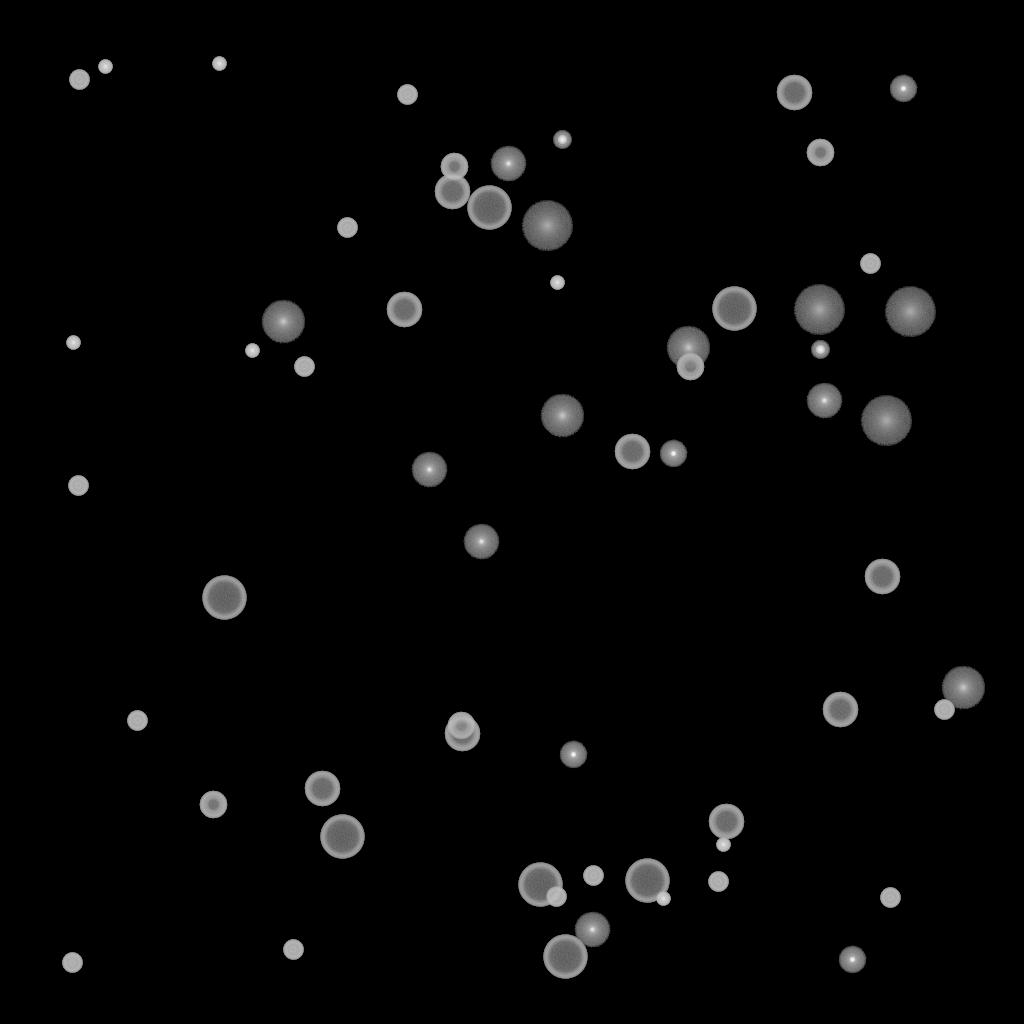depth:-10: (559, 741, 587, 769), (659, 440, 687, 468), (838, 946, 866, 974), (889, 75, 917, 103)
depth:-20: (811, 341, 829, 359), (553, 131, 571, 149)
depth:-30: (656, 892, 670, 906), (716, 838, 730, 852), (550, 276, 564, 290), (212, 57, 226, 71), (66, 336, 80, 350), (98, 60, 112, 74), (245, 344, 259, 358)
depth:-40: (708, 872, 728, 892), (62, 953, 82, 973), (294, 357, 314, 377), (397, 85, 417, 105), (880, 888, 900, 908), (283, 940, 303, 960), (546, 887, 566, 907), (69, 70, 89, 90), (934, 700, 954, 720), (860, 254, 880, 274), (583, 866, 603, 886), (127, 711, 147, 731), (337, 218, 357, 238), (68, 476, 88, 496)
depth:-50: (440, 153, 468, 181), (806, 139, 834, 167), (676, 353, 704, 381), (199, 791, 227, 819), (447, 712, 475, 740)
depth:-60: (304, 771, 340, 807), (708, 804, 744, 840), (864, 559, 900, 595), (776, 75, 812, 111), (386, 292, 422, 328), (822, 692, 858, 728), (434, 174, 470, 210), (444, 716, 480, 752), (614, 434, 650, 470)
depth:-70: (712, 287, 756, 331), (543, 935, 587, 979), (320, 815, 364, 859), (202, 576, 246, 620), (625, 859, 669, 903), (518, 863, 562, 907), (467, 186, 511, 230)
depth:0: (490, 146, 526, 182), (411, 452, 447, 488), (574, 912, 610, 948), (806, 383, 842, 419), (463, 524, 499, 560)
depth:10: (666, 326, 710, 370), (261, 300, 305, 344), (540, 394, 584, 438), (941, 666, 985, 710)
depth:20: (793, 285, 845, 335), (521, 201, 573, 251), (884, 287, 936, 337), (860, 396, 912, 446)
